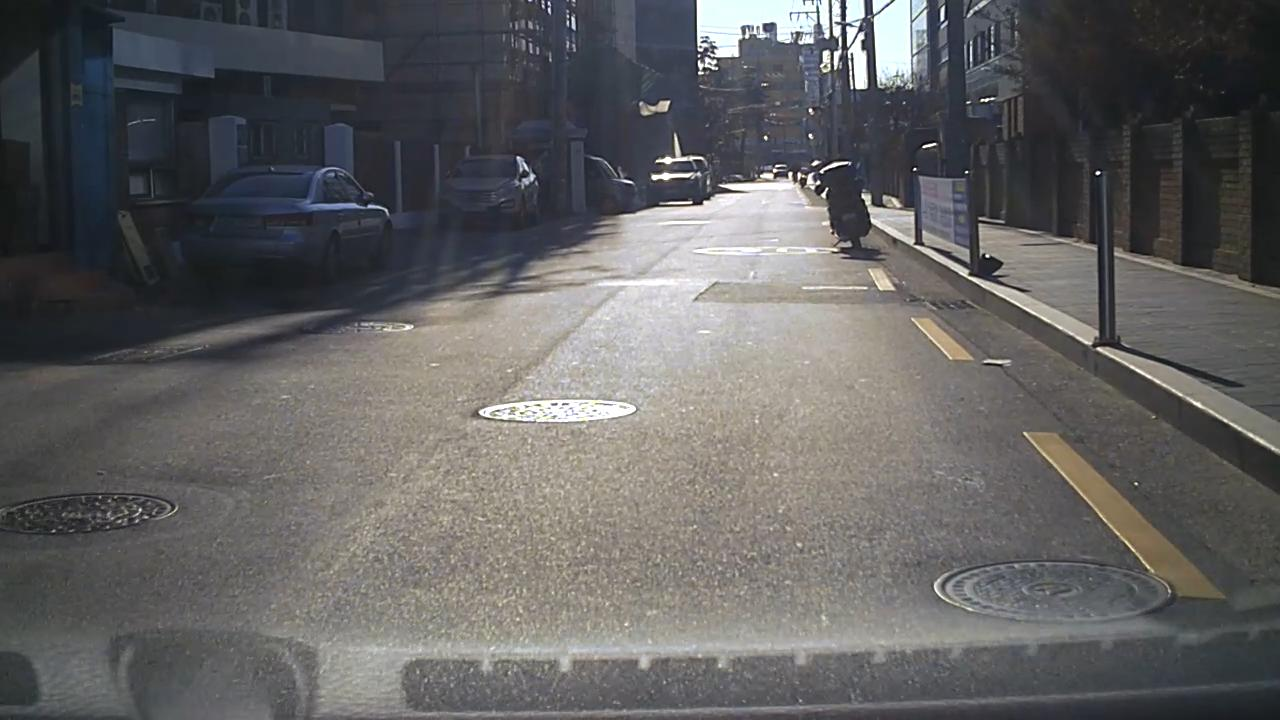banner: (998, 359, 1057, 417), (928, 309, 988, 351)
